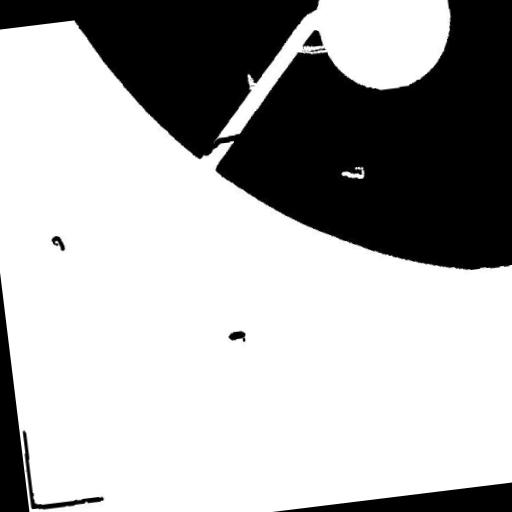copper: (42, 226, 74, 260), (219, 322, 254, 352)
mousebite: (238, 64, 265, 98)
open: (288, 34, 342, 64)
pin-hole: (332, 158, 373, 188)
short: (192, 125, 251, 164)
